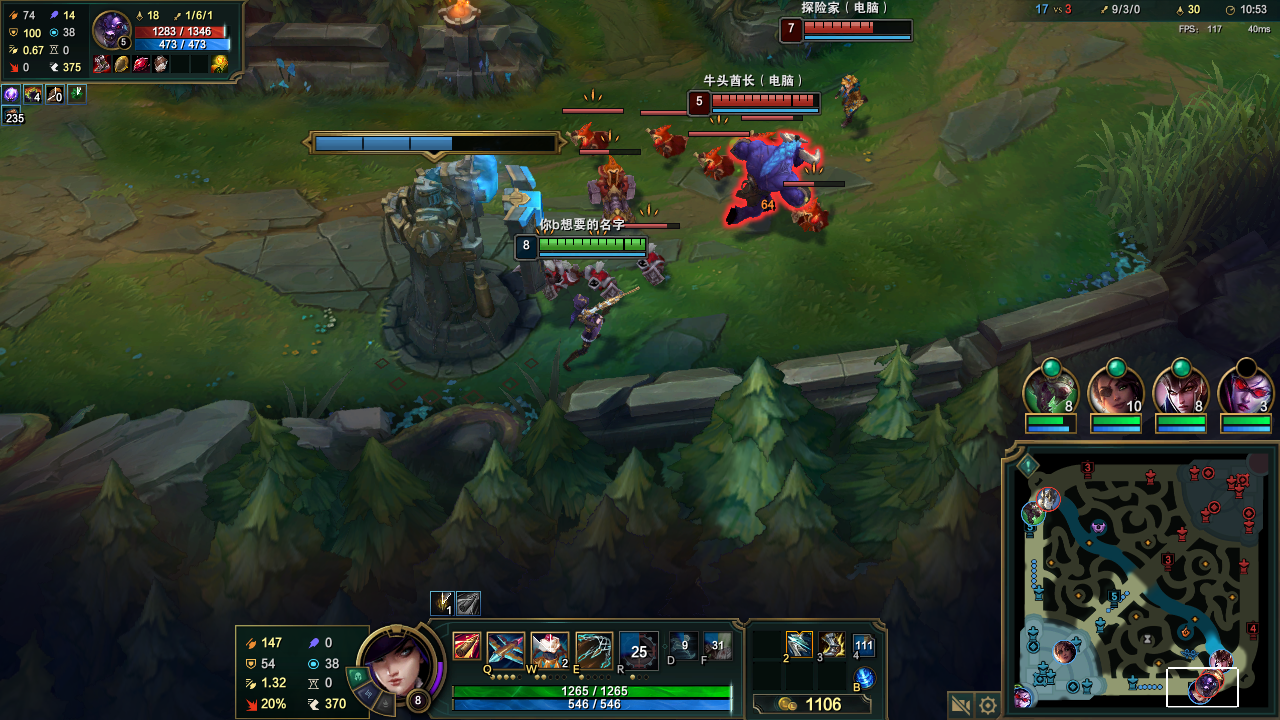DFXB: (585, 164, 636, 216), (543, 261, 582, 291), (581, 270, 619, 296), (798, 197, 827, 229), (649, 122, 680, 151), (699, 145, 730, 173), (571, 122, 602, 145), (637, 253, 662, 276)
DFYX: (797, 21, 909, 34), (710, 94, 817, 106)
